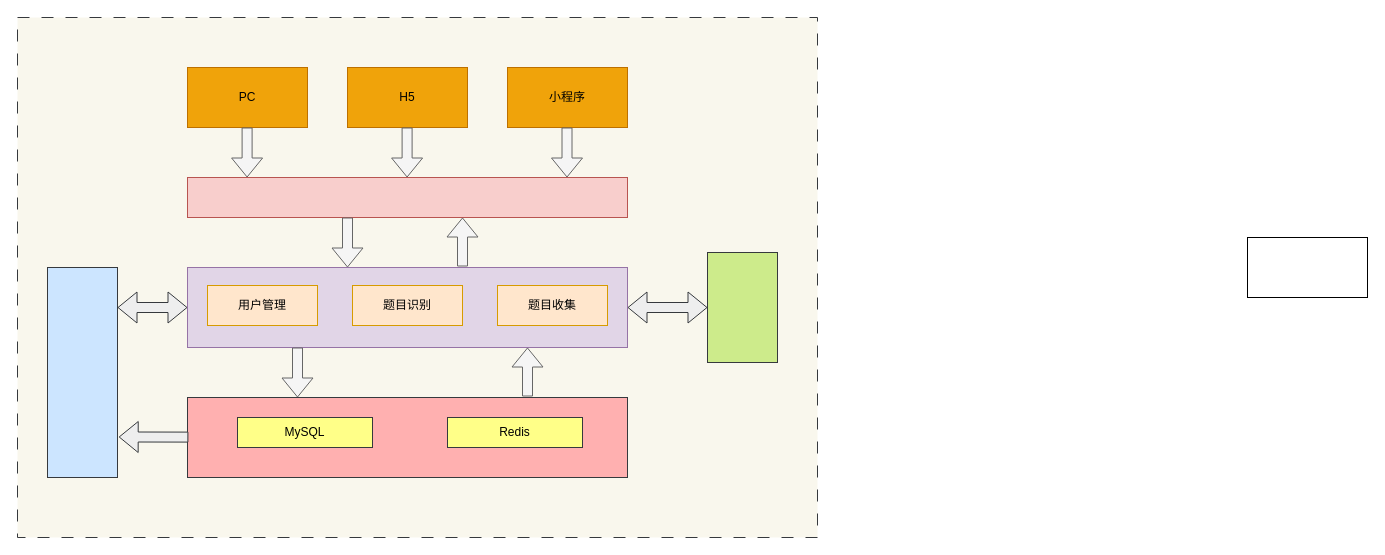
Image size: 1385x555. Some labels were removed from this diagram. Here are the shapes that lost their labels. From the top down, the box of each, then its label:
(186, 176, 628, 218): OpenRestry/Nginx 反向代理+负载均衡+限流+黑白名单+流量控制+业务校验
(706, 252, 778, 362): OpenAI SDK
(46, 266, 118, 478): MQ
(186, 396, 628, 478): 数据存储
